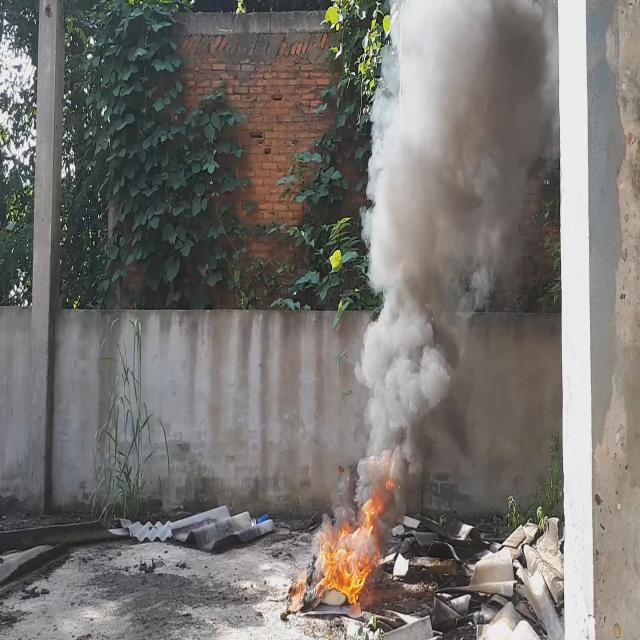Fire: (317, 487, 385, 602)
Smoke: (356, 0, 552, 494)
